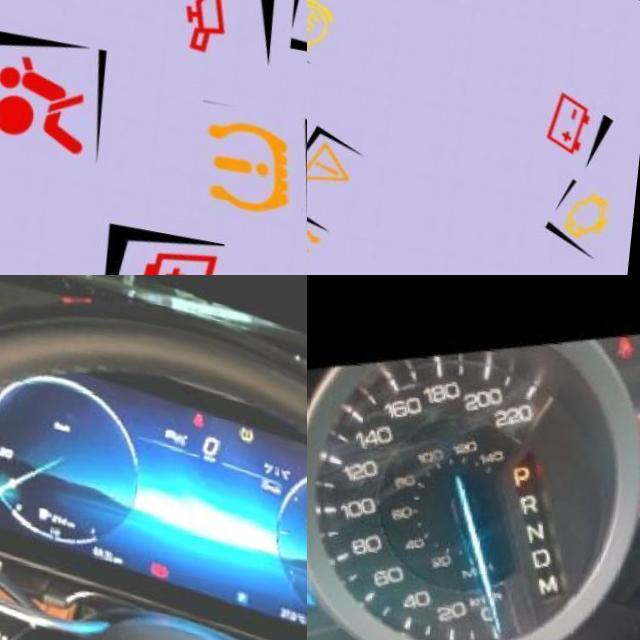Low fuel level: (35, 493, 49, 508)
